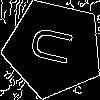U: (29, 24, 83, 70)
